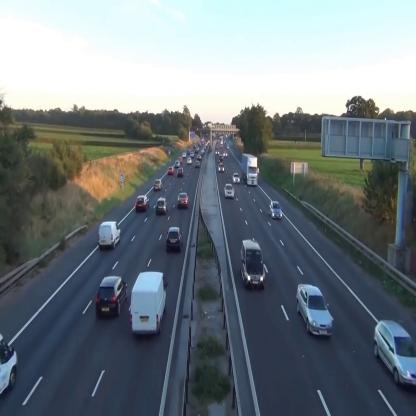car: (374, 319, 416, 387), (296, 284, 334, 340), (96, 276, 127, 317), (98, 220, 121, 250), (166, 227, 184, 254), (269, 200, 283, 220), (135, 196, 150, 212), (156, 198, 168, 215), (177, 192, 189, 208), (224, 183, 235, 198), (154, 179, 163, 192), (233, 172, 240, 184), (167, 165, 174, 175), (177, 167, 184, 177), (219, 163, 224, 173), (175, 160, 181, 168), (187, 156, 191, 165), (194, 160, 199, 166)
lorry: (131, 271, 168, 335), (240, 240, 265, 290), (242, 152, 260, 188)
